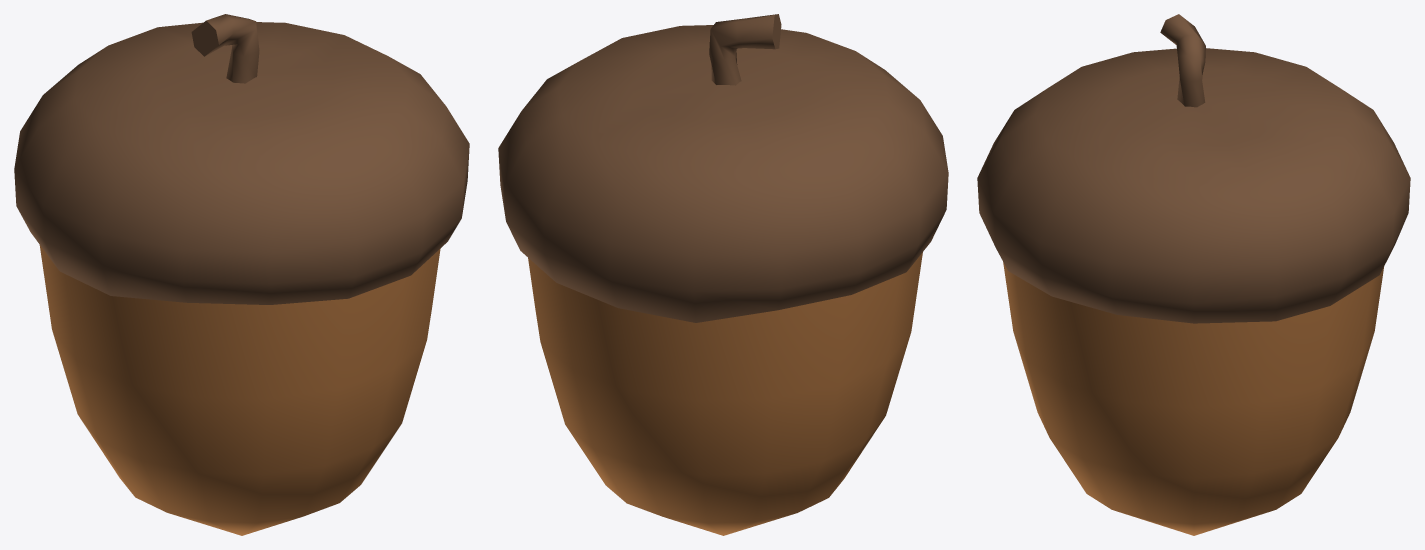
The model's file is Nuts.FBX.
3 views of the same model, side by side, from view 1: azimuth 30°, elevation 25°; view 2: azimuth 150°, elevation 25°; view 3: azimuth 270°, elevation 25° (orthographic). The views are drawn at different scales.
Visible parts, largest first — view 1: Line007; view 2: Line007; view 3: Line007.
Part boxes in pixels (x1,y1,x2,y2): Line007: [14, 14, 469, 535]; Line007: [498, 14, 948, 535]; Line007: [977, 14, 1410, 535].
Bounding box in the file's own units: 31.11 × 39.75 × 31.11.
